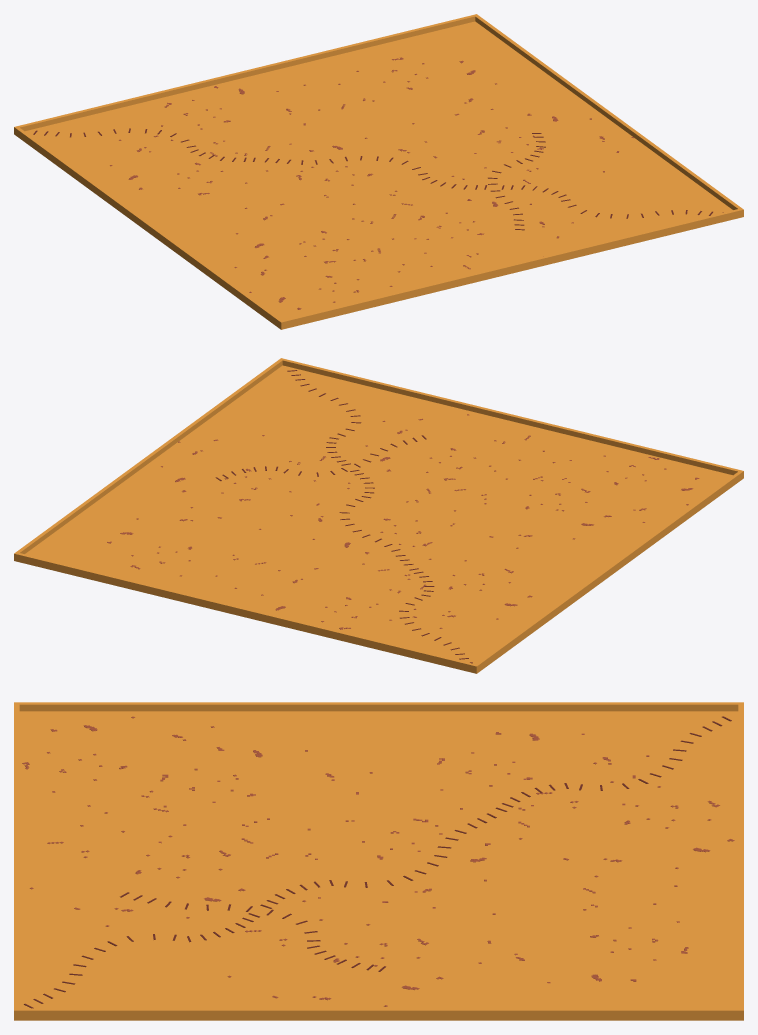
File: ParcelProtocolFirstLevel.fbx
The picture shows the model from 3 angles, top to bottom: view 1: azimuth 30°, elevation 25°; view 2: azimuth 150°, elevation 25°; view 3: azimuth 270°, elevation 25°; orthographic projection. The views are drawn at different scales.
Parts seen in each view (by area): view 1: Ground, Wall; view 2: Ground, Wall; view 3: Ground, Wall.
Part boxes in pixels (x1,y1,x2,y2): Ground: (14, 21, 743, 329); Wall: (14, 14, 743, 327); Ground: (14, 365, 743, 673); Wall: (14, 358, 743, 671); Ground: (14, 711, 743, 1020); Wall: (14, 702, 743, 1017).
Size of the model in its own units: 13045 by 198 by 13045.
